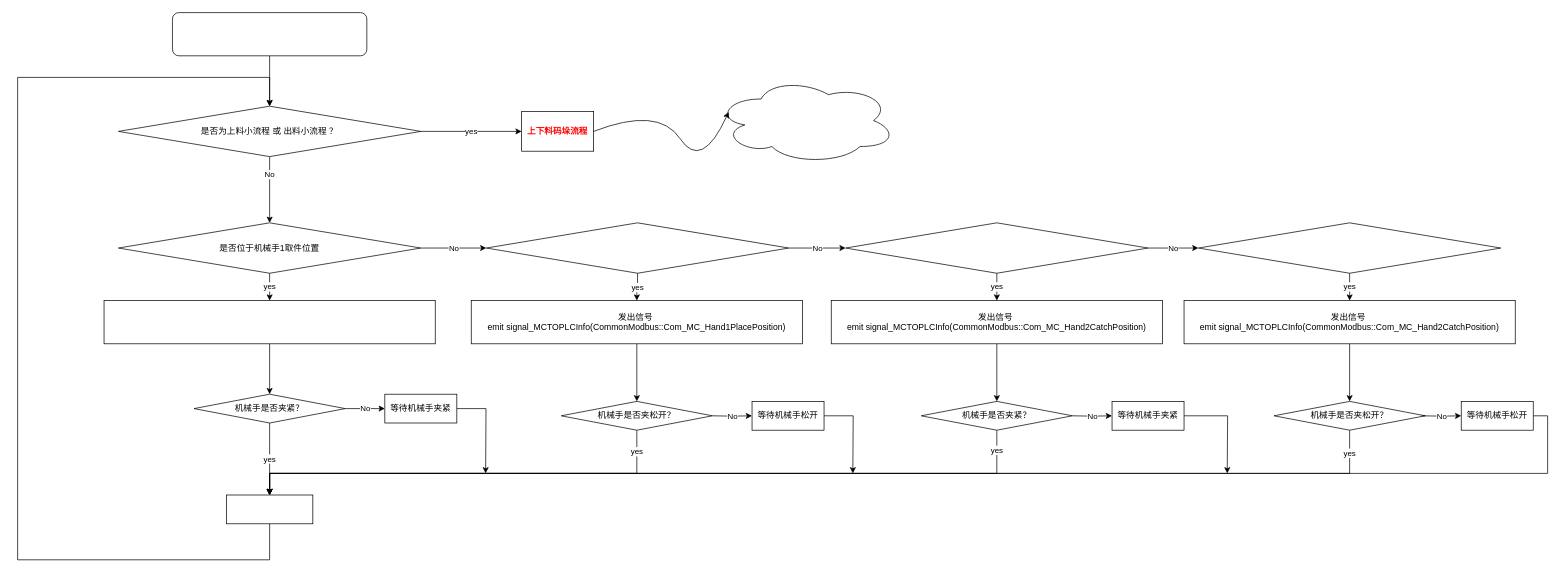
The diagram is 1566 pixels wide and 578 high, and some of its shapes have lost their labels. The centre of each missing label's shape, as x and y in pixels:
"发出信号 emit signal_MCTOPLCInfo(CommonModbus::Com_MC_Hand1CatchPosition)" goes at (269,322).
"是否位于机械手1放件位置" goes at (637,247).
"是否位于机械手2取件位置" goes at (996,247).
"是否位于机械手2放件位置" goes at (1349,247).
"根据小流程信息模板运动开始" goes at (269,34).
"继续运动" goes at (269,509).
"转到“上下料码垛流程开始”子页面" goes at (805,120).
